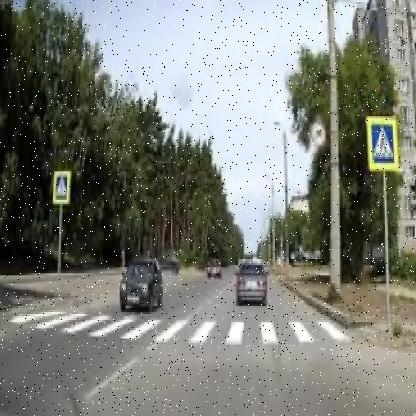Pedestrian Crossing: (373, 128, 394, 161), (59, 179, 68, 198)
